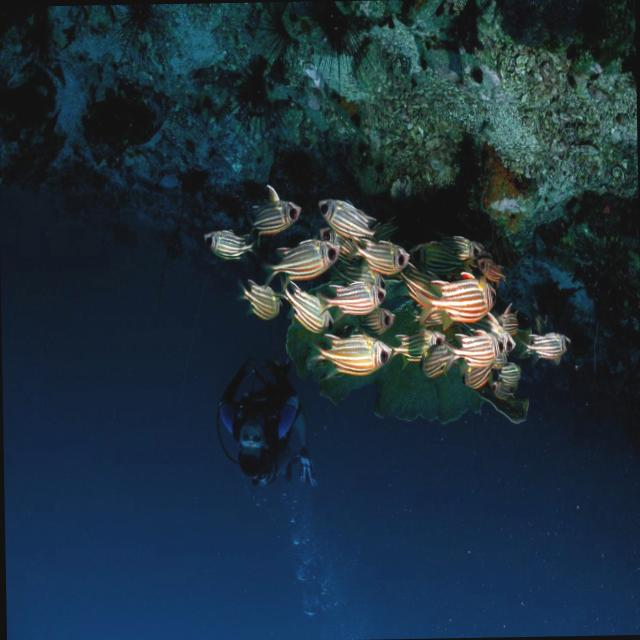Asker Baligi: (402, 268, 496, 324), (268, 232, 340, 284), (314, 328, 397, 372), (318, 272, 384, 315), (446, 328, 504, 370), (354, 235, 410, 273), (249, 198, 301, 237), (280, 286, 330, 324), (236, 278, 283, 318), (315, 198, 375, 229), (396, 322, 444, 360), (200, 225, 252, 258), (418, 338, 459, 378), (436, 232, 484, 264), (526, 326, 568, 361), (412, 240, 458, 270)
